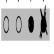correct: (28, 15, 34, 34)
not correct: (39, 5, 48, 40)
